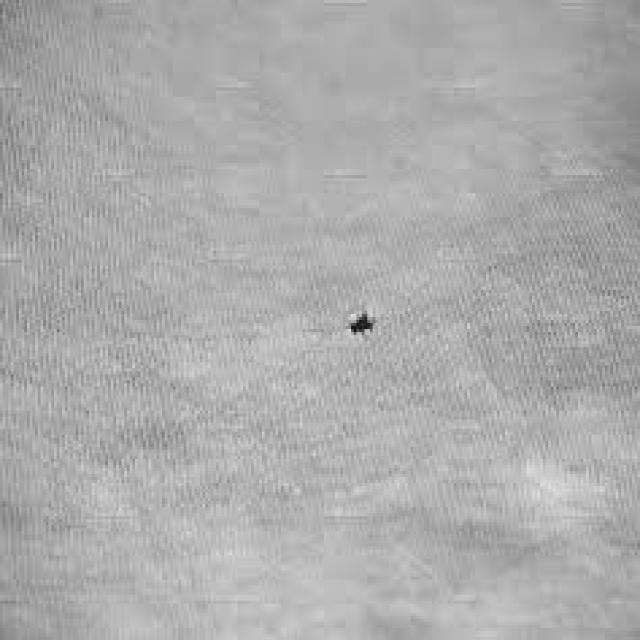seam: (294, 282, 428, 364)
